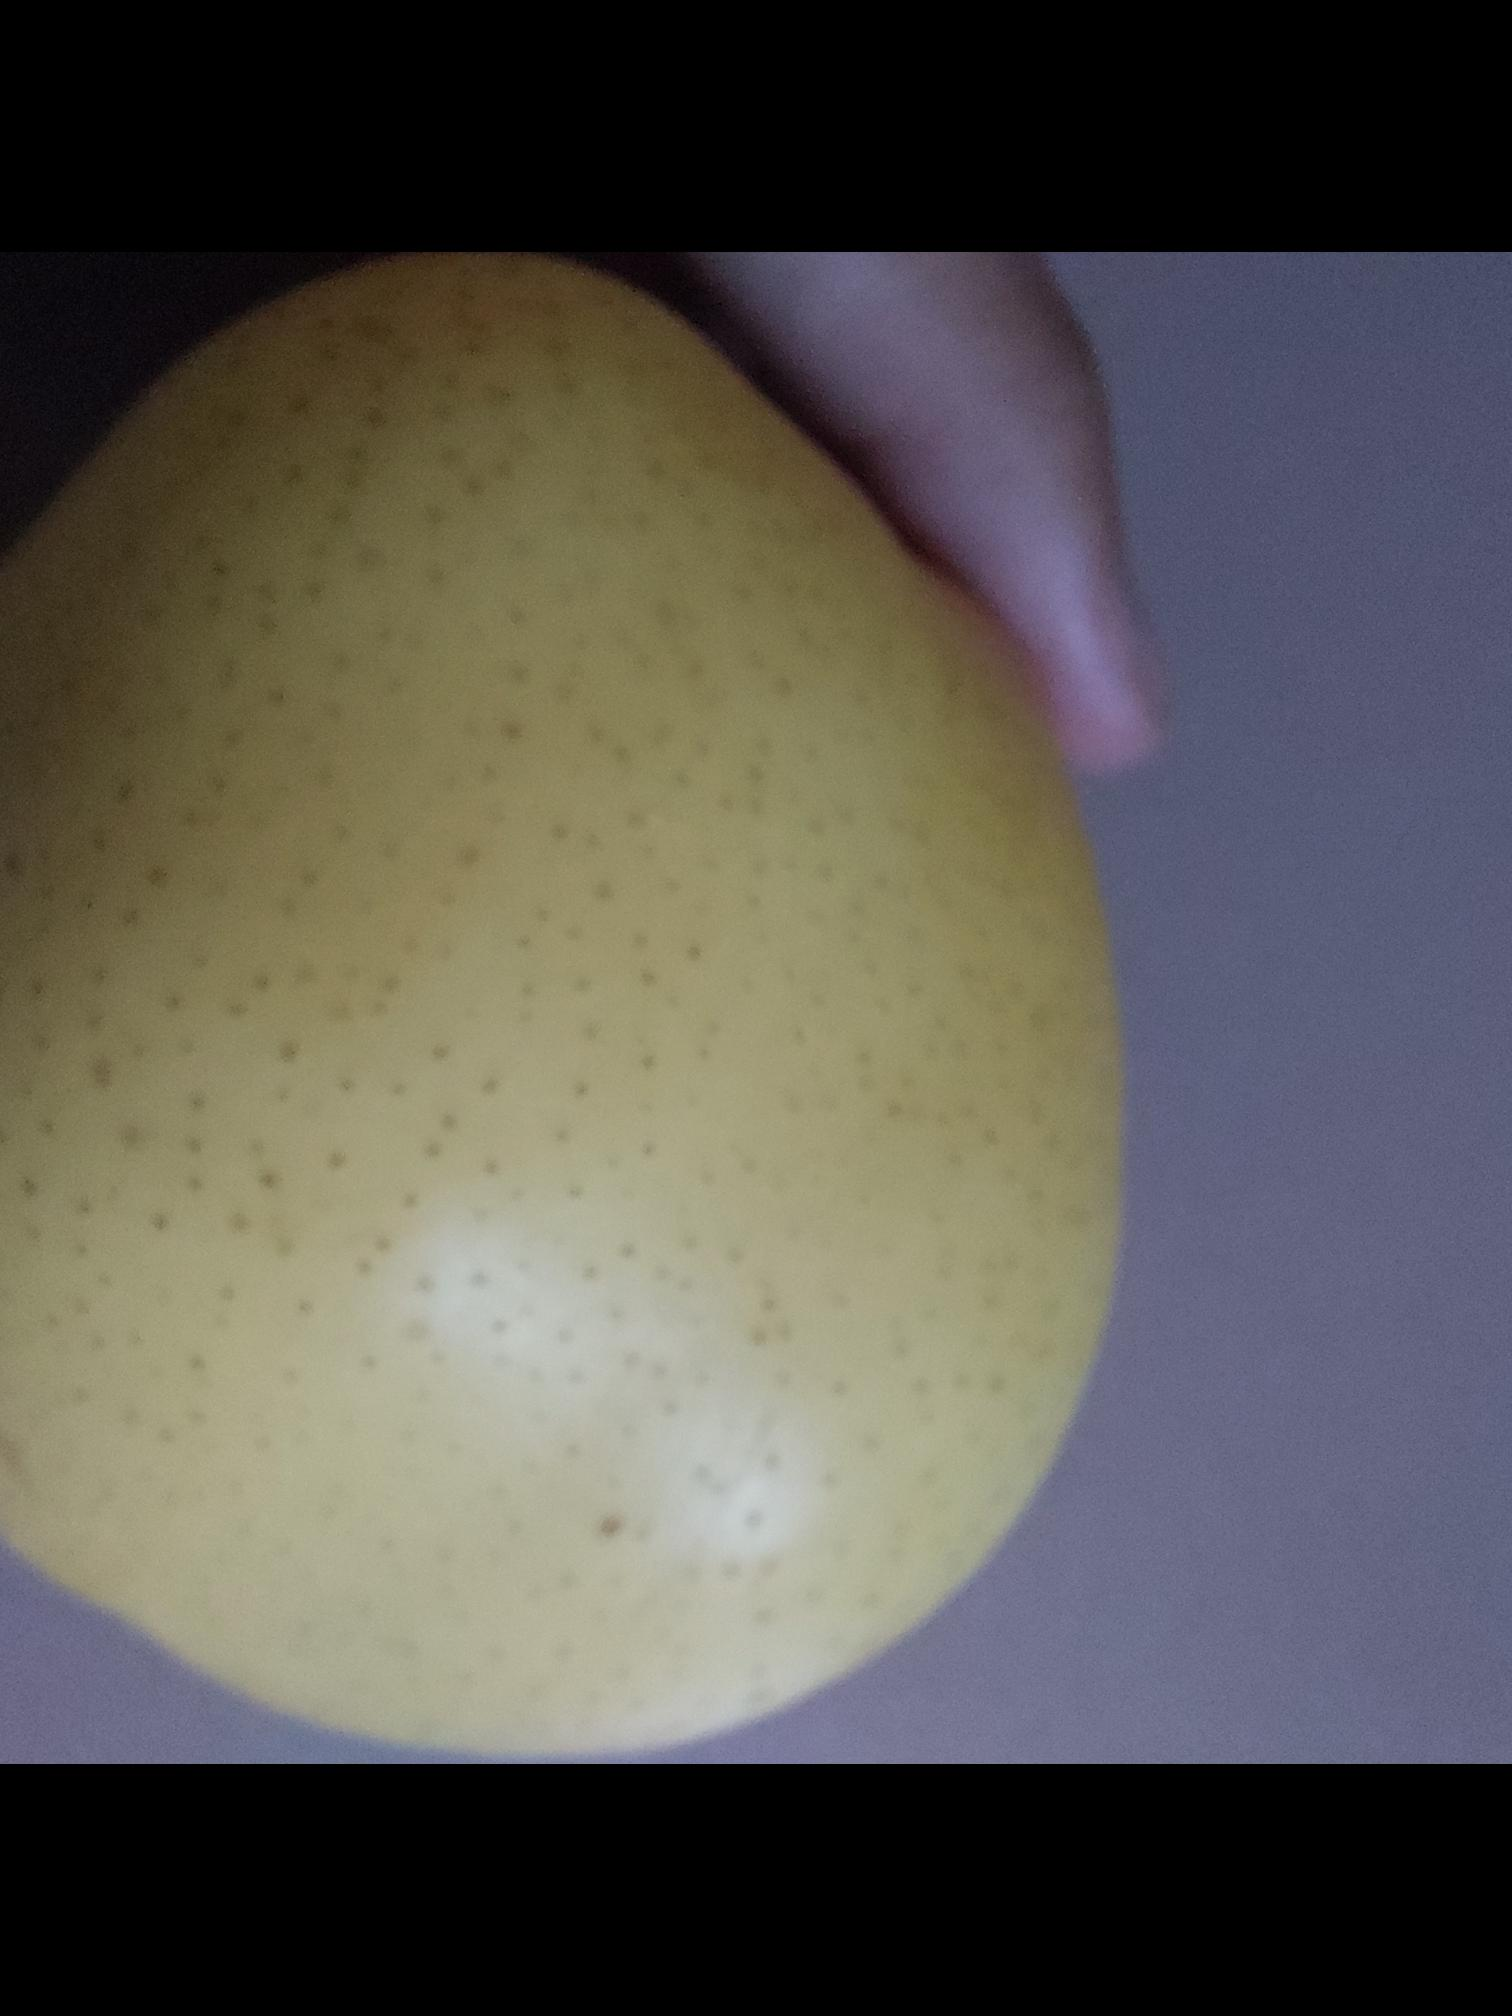Good Pear: (0, 252, 1110, 1764)
